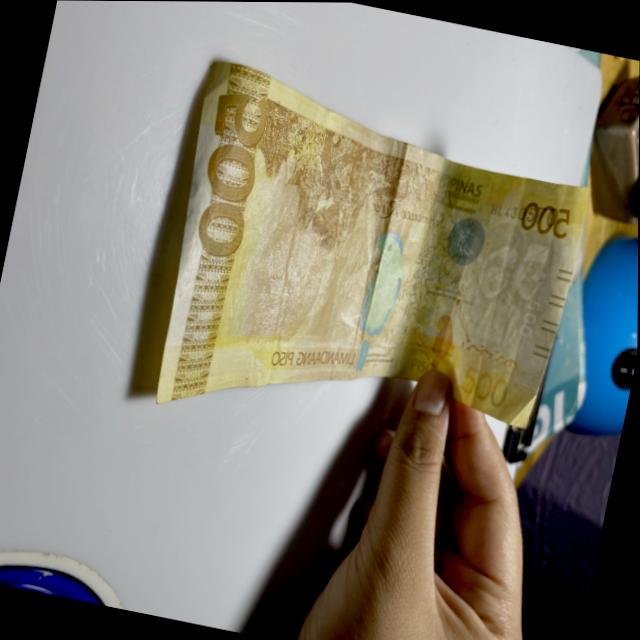500_big_parrot: (343, 221, 413, 370)
500_parrot_watermark: (420, 306, 462, 377)
value_watermark: (513, 285, 543, 344)
watermark: (459, 211, 557, 353)
